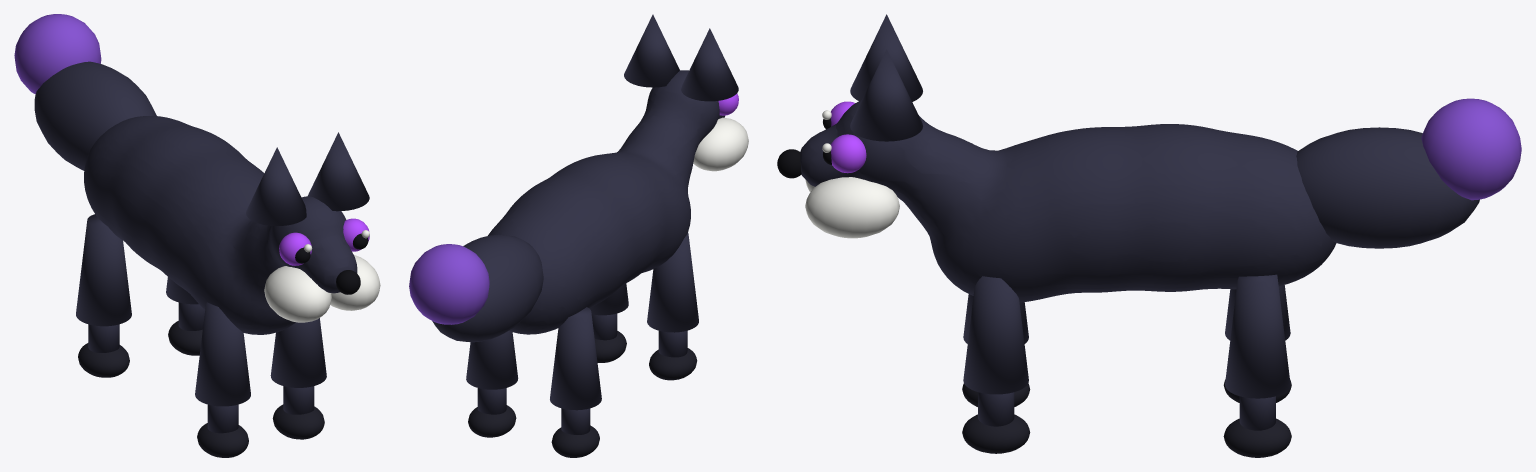
Rendered from Shadow Wolf.obj.
The picture shows the model from 3 angles, left to right: view 1: azimuth 30°, elevation 25°; view 2: azimuth 150°, elevation 25°; view 3: azimuth 270°, elevation 25°; orthographic projection. The views are drawn at different scales.
Parts seen in each view (by area): view 1: Shadow_Wolf; view 2: Shadow_Wolf; view 3: Shadow_Wolf.
Boxes of the visible parts, x1,y1,x2,y2 form: Shadow_Wolf: (14, 14, 380, 457); Shadow_Wolf: (409, 14, 748, 457); Shadow_Wolf: (777, 14, 1521, 457).
Size of the model in its own units: 1.54 by 3.6 by 6.12.
